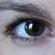eye: (25, 21, 44, 36)
